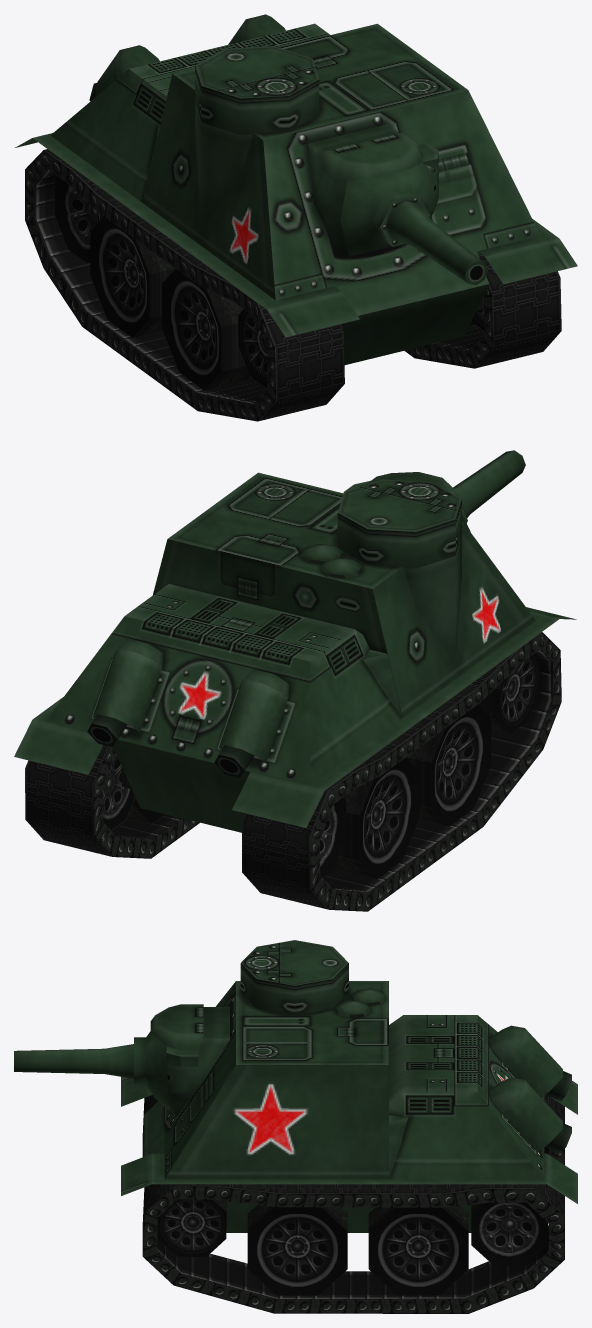
The model's file is SU100_SD_Model_Track.FBX.
3 renders of one model, top to bottom at view 1: azimuth 30°, elevation 25°; view 2: azimuth 150°, elevation 25°; view 3: azimuth 270°, elevation 25°, orthographic. The views are drawn at different scales.
Visible parts, largest first — view 1: Body, RightTrack, Cannon, LeftTrack; view 2: Body, RightTrack, LeftTrack, Cannon; view 3: Body, LeftTrack, Cannon, RightTrack.
Boxes of the visible parts, x1,y1,x2,y2 form: Body: (15,14,577,364); RightTrack: (25,149,344,421); Cannon: (340,162,487,285); LeftTrack: (404,252,561,368); Body: (14,472,576,832); RightTrack: (242,632,561,911); LeftTrack: (25,745,199,858); Cannon: (453,450,525,531); Body: (121,940,577,1232); LeftTrack: (142,1184,564,1313); Cannon: (14,1031,186,1110); RightTrack: (142,1095,564,1164).
Size of the model in its own units: 1.07 by 1.09 by 2.13.
Materials: 2 (2 with a texture image).
